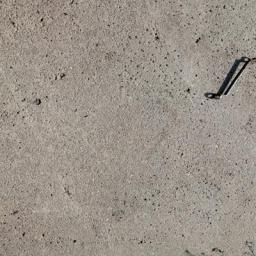FOD: (206, 55, 256, 107)
